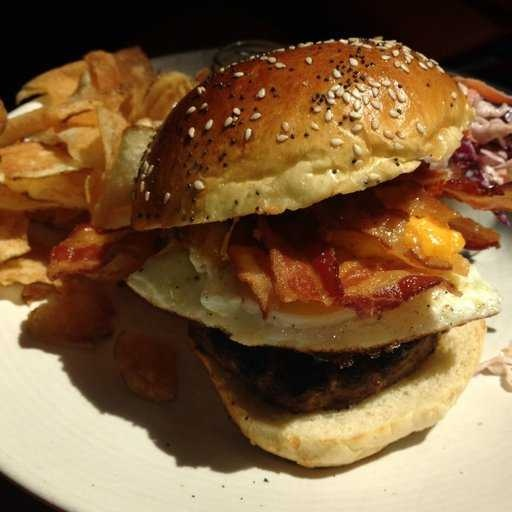hamburger: (161, 41, 475, 465)
